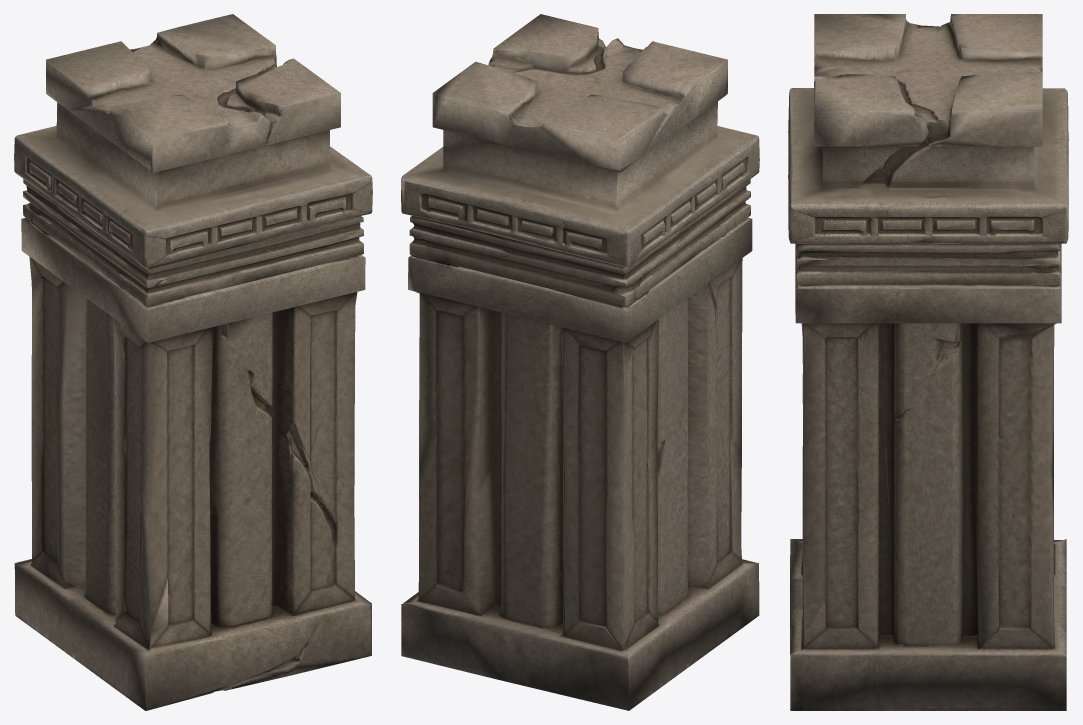
The model's file is pillar.glb.
3 renders of one model, left to right at view 1: azimuth 30°, elevation 25°; view 2: azimuth 150°, elevation 25°; view 3: azimuth 270°, elevation 25°, orthographic. The views are drawn at different scales.
Size of the model in its own units: 0.8185 by 1.9 by 0.8179.
1 material, 1 textured.
